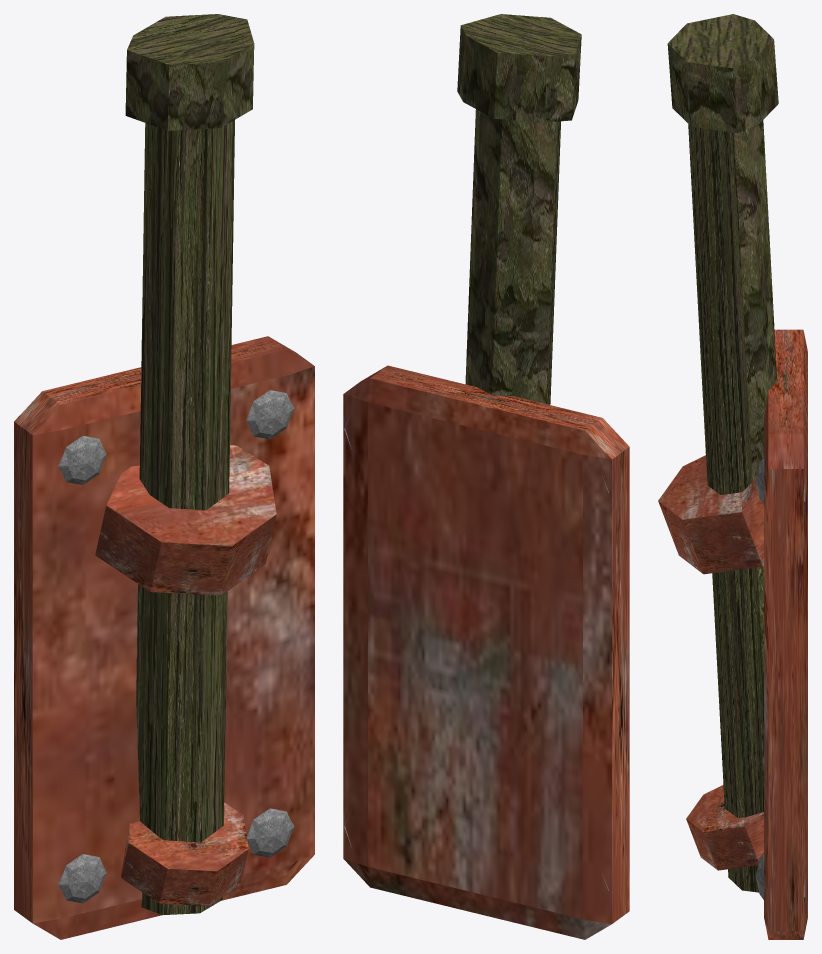
File: torch 1.fbx
3 renders of one model, left to right at view 1: azimuth 30°, elevation 25°; view 2: azimuth 150°, elevation 25°; view 3: azimuth 270°, elevation 25°, orthographic. The views are drawn at different scales.
Parts seen in each view (by area): view 1: pCube1, pCylinder1, pCylinder2, pCylinder3, pSphere4, pSphere1, pSphere2, pSphere3; view 2: pCube1, pCylinder1; view 3: pCylinder1, pCube1, pCylinder2, pCylinder3, pSphere2, pSphere3.
Boxes of the visible parts, box(x1,y1,x2,y2) form: pCube1: box(14, 336, 314, 939); pCylinder1: box(125, 14, 254, 914); pCylinder2: box(95, 445, 276, 595); pCylinder3: box(121, 802, 248, 906); pSphere4: box(58, 854, 106, 903); pSphere1: box(58, 435, 106, 484); pSphere2: box(246, 390, 294, 439); pSphere3: box(247, 808, 294, 857); pCube1: box(343, 365, 629, 939); pCylinder1: box(457, 14, 581, 404); pCylinder1: box(667, 14, 778, 892); pCube1: box(764, 329, 807, 939); pCylinder2: box(658, 455, 763, 574); pCylinder3: box(686, 785, 763, 870); pSphere2: box(755, 457, 805, 517); pSphere3: box(755, 852, 805, 913).
Size of the model in its own units: 2.28 by 6.89 by 1.11.
